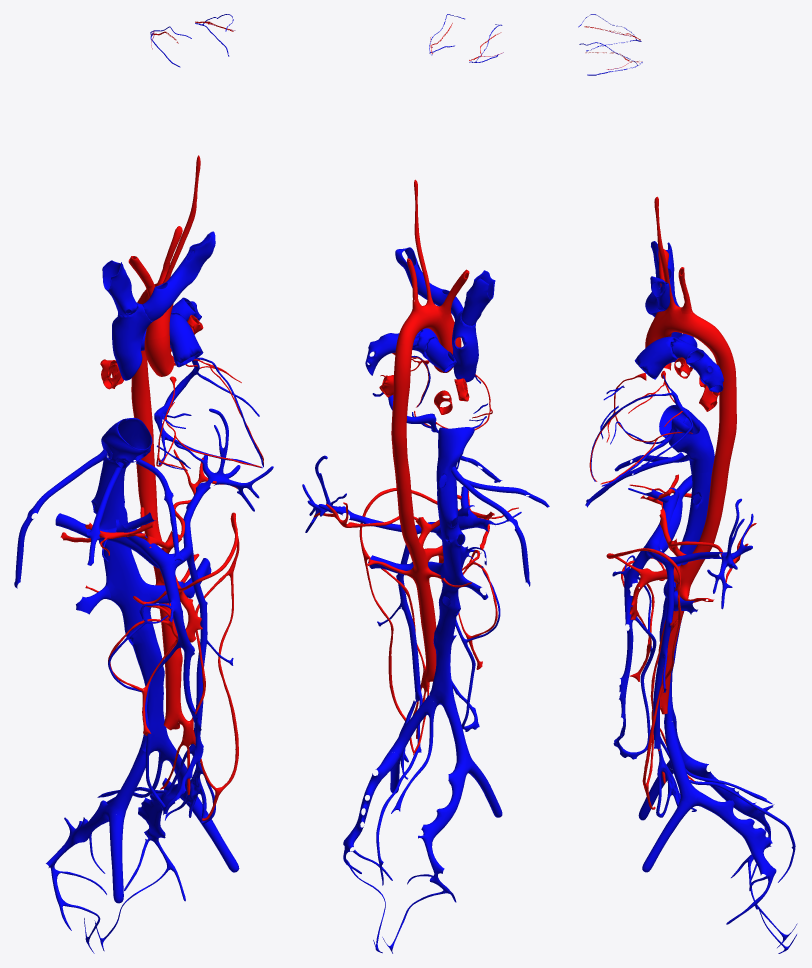
The model's file is vh_m_blood_vasculature-40.glb.
3 views of the same model, side by side, from view 1: azimuth 30°, elevation 25°; view 2: azimuth 150°, elevation 25°; view 3: azimuth 270°, elevation 25° (orthographic). The views are drawn at different scales.
Visible parts, largest first — view 1: VH_M_inferior_vena_cava_b, VH_M_descending_aorta_b, VH_M_inferior_vena_cava_a, VH_M_superior_mesenteric_vein, VH_M_splenic_vein, VH_M_brachiocephalic_vein_L, VH_M_superior_vena_cava, VH_M_marginal_artery_of_Drummond, VH_M_descending_aorta_a, VH_M_inferior_mesenteric_vein, VH_M_brachiocephalic_vein_R, VH_M_pulmonary_trunk (+18 smaller); view 2: VH_M_inferior_vena_cava_b, VH_M_descending_aorta_b, VH_M_descending_aorta_a, VH_M_inferior_vena_cava_a, VH_M_internal_iliac_vein_R, VH_M_aortic_arch, VH_M_superior_vena_cava, VH_M_splenic_vein, VH_M_brachiocephalic_vein_R, VH_M_brachiocephalic_vein_L, VH_M_internal_iliac_vein_L, VH_M_marginal_artery_of_Drummond (+8 smaller); view 3: VH_M_descending_aorta_a, VH_M_descending_aorta_b, VH_M_inferior_vena_cava_b, VH_M_inferior_vena_cava_a, VH_M_internal_iliac_vein_L, VH_M_aortic_arch, VH_M_splenic_vein, VH_M_superior_mesenteric_vein, VH_M_pulmonary_artery_L, VH_M_inferior_mesenteric_vein, VH_M_marginal_artery_of_Drummond, VH_M_common_iliac_vein_L (+12 smaller).
Part boxes in pixels (x1,y1,x2,y2): VH_M_inferior_vena_cava_b: [91, 474, 169, 753]; VH_M_descending_aorta_b: [136, 459, 182, 730]; VH_M_inferior_vena_cava_a: [101, 417, 152, 482]; VH_M_superior_mesenteric_vein: [158, 564, 203, 812]; VH_M_splenic_vein: [170, 408, 273, 567]; VH_M_brachiocephalic_vein_L: [142, 231, 215, 321]; VH_M_superior_vena_cava: [112, 302, 152, 380]; VH_M_marginal_artery_of_Drummond: [179, 512, 239, 820]; VH_M_descending_aorta_a: [131, 298, 154, 461]; VH_M_inferior_mesenteric_vein: [186, 547, 207, 755]; VH_M_brachiocephalic_vein_R: [102, 260, 137, 315]; VH_M_pulmonary_trunk: [169, 313, 203, 367]; VH_M_inferior_vena_cava_b: [429, 489, 465, 707]; VH_M_descending_aorta_b: [396, 485, 436, 682]; VH_M_descending_aorta_a: [391, 343, 412, 489]; VH_M_inferior_vena_cava_a: [436, 427, 474, 493]; VH_M_internal_iliac_vein_R: [418, 762, 468, 883]; VH_M_aortic_arch: [397, 304, 459, 348]; VH_M_superior_vena_cava: [452, 310, 478, 382]; VH_M_splenic_vein: [302, 455, 440, 534]; VH_M_brachiocephalic_vein_R: [461, 270, 495, 325]; VH_M_brachiocephalic_vein_L: [395, 247, 463, 319]; VH_M_internal_iliac_vein_L: [343, 752, 399, 853]; VH_M_marginal_artery_of_Drummond: [359, 487, 437, 752]; VH_M_descending_aorta_a: [709, 334, 736, 488]; VH_M_descending_aorta_b: [657, 485, 726, 714]; VH_M_inferior_vena_cava_b: [659, 470, 712, 722]; VH_M_inferior_vena_cava_a: [659, 405, 714, 472]; VH_M_internal_iliac_vein_L: [696, 791, 776, 881]; VH_M_aortic_arch: [647, 306, 721, 348]; VH_M_splenic_vein: [645, 498, 753, 609]; VH_M_superior_mesenteric_vein: [613, 546, 651, 753]; VH_M_pulmonary_artery_L: [670, 338, 723, 392]; VH_M_inferior_mesenteric_vein: [653, 561, 673, 749]; VH_M_marginal_artery_of_Drummond: [606, 548, 681, 809]; VH_M_common_iliac_vein_L: [665, 720, 698, 807].
Bounding box in the file's own units: 0.2362 × 0.8718 × 0.1874.
